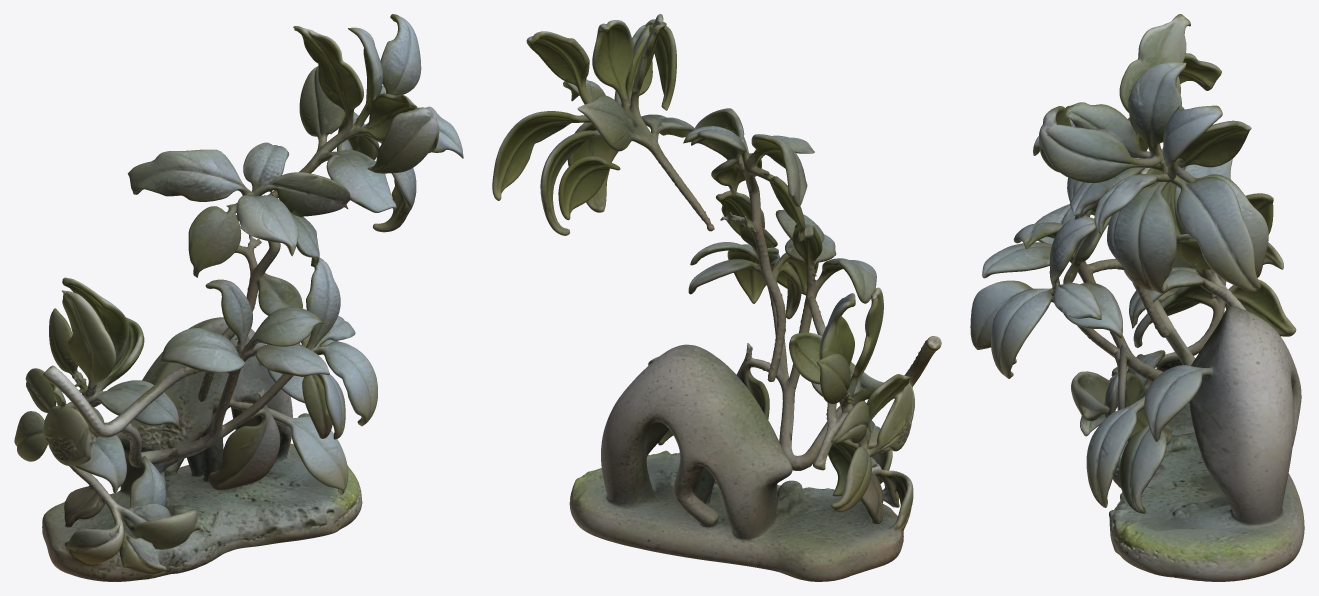
3 renders of one model, left to right at view 1: azimuth 30°, elevation 25°; view 2: azimuth 150°, elevation 25°; view 3: azimuth 270°, elevation 25°, orthographic. The views are drawn at different scales.
Visible parts, largest first — view 1: material; view 2: material; view 3: material.
Part boxes in pixels (x1=…): material: x1=14, y1=14, x2=463, y2=581; material: x1=492, y1=14, x2=941, y2=581; material: x1=970, y1=14, x2=1304, y2=581.
Size of the model in its own units: 0.8324 by 0.9485 by 0.5402.
Materials: 1 (1 with a texture image).
